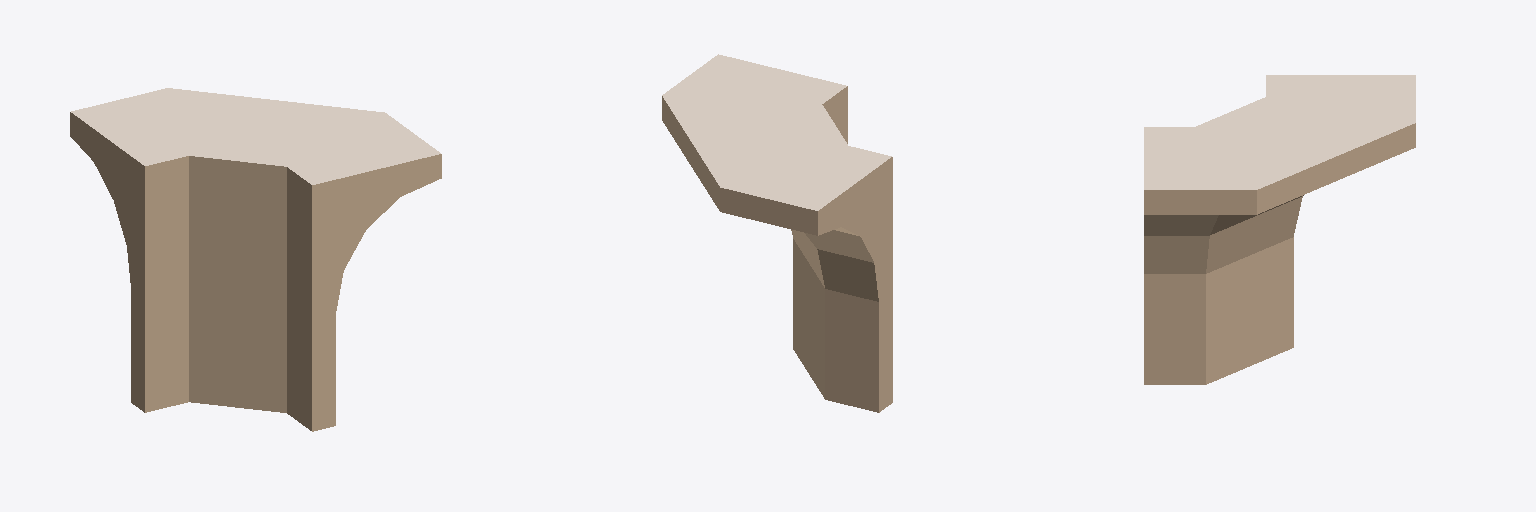
Rendered from Wall_Arch_Corner_Outer.obj.
The picture shows the model from 3 angles: view 1: azimuth 30°, elevation 25°; view 2: azimuth 150°, elevation 25°; view 3: azimuth 270°, elevation 25°; orthographic projection.
Visible parts, largest first — view 1: object1; view 2: object1; view 3: object1.
Boxes of the visible parts, box(x1,y1,x2,y2) form: object1: box(70, 88, 441, 431); object1: box(662, 54, 892, 412); object1: box(1144, 75, 1415, 384).
Size of the model in its own units: 2 by 2 by 2.